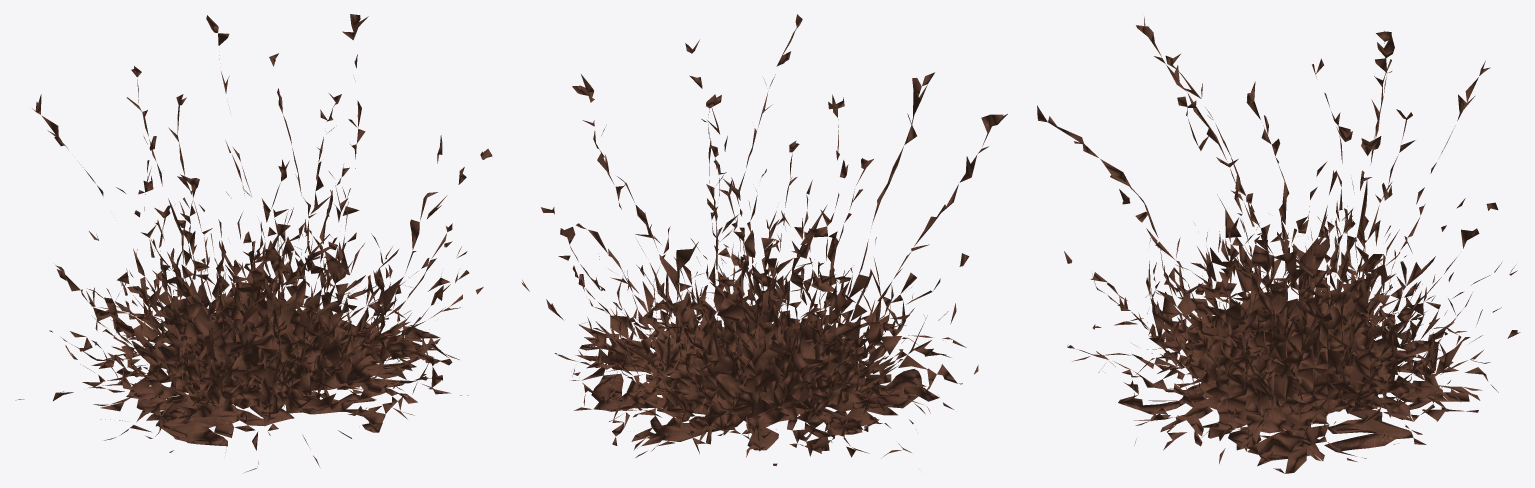
Rendered from tussock.glb.
3 views of the same model, side by side, from view 1: azimuth 30°, elevation 25°; view 2: azimuth 150°, elevation 25°; view 3: azimuth 270°, elevation 25° (orthographic). The views are drawn at different scales.
Size of the model in its own units: 1.88 by 1.4 by 1.77.
1 material, 1 textured.
